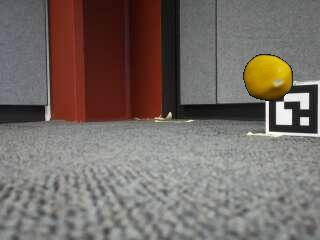lemon: (243, 55, 291, 99)
